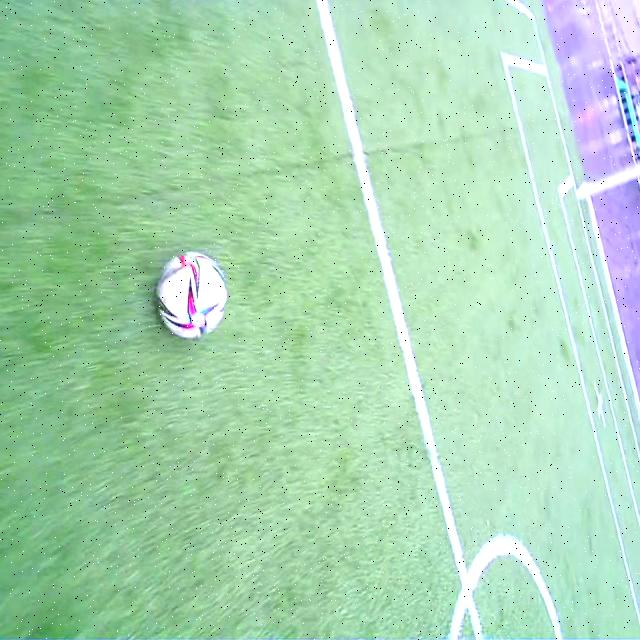ball: (159, 250, 227, 340)
